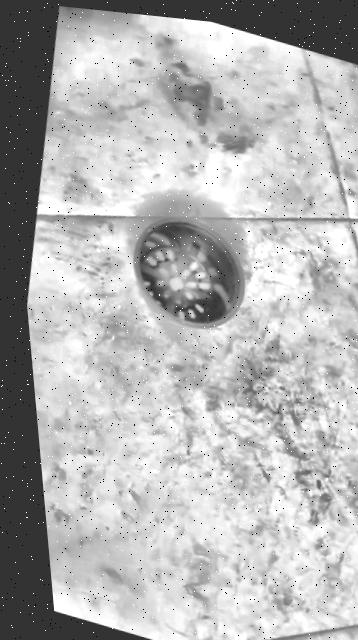pot: (116, 203, 257, 342)
